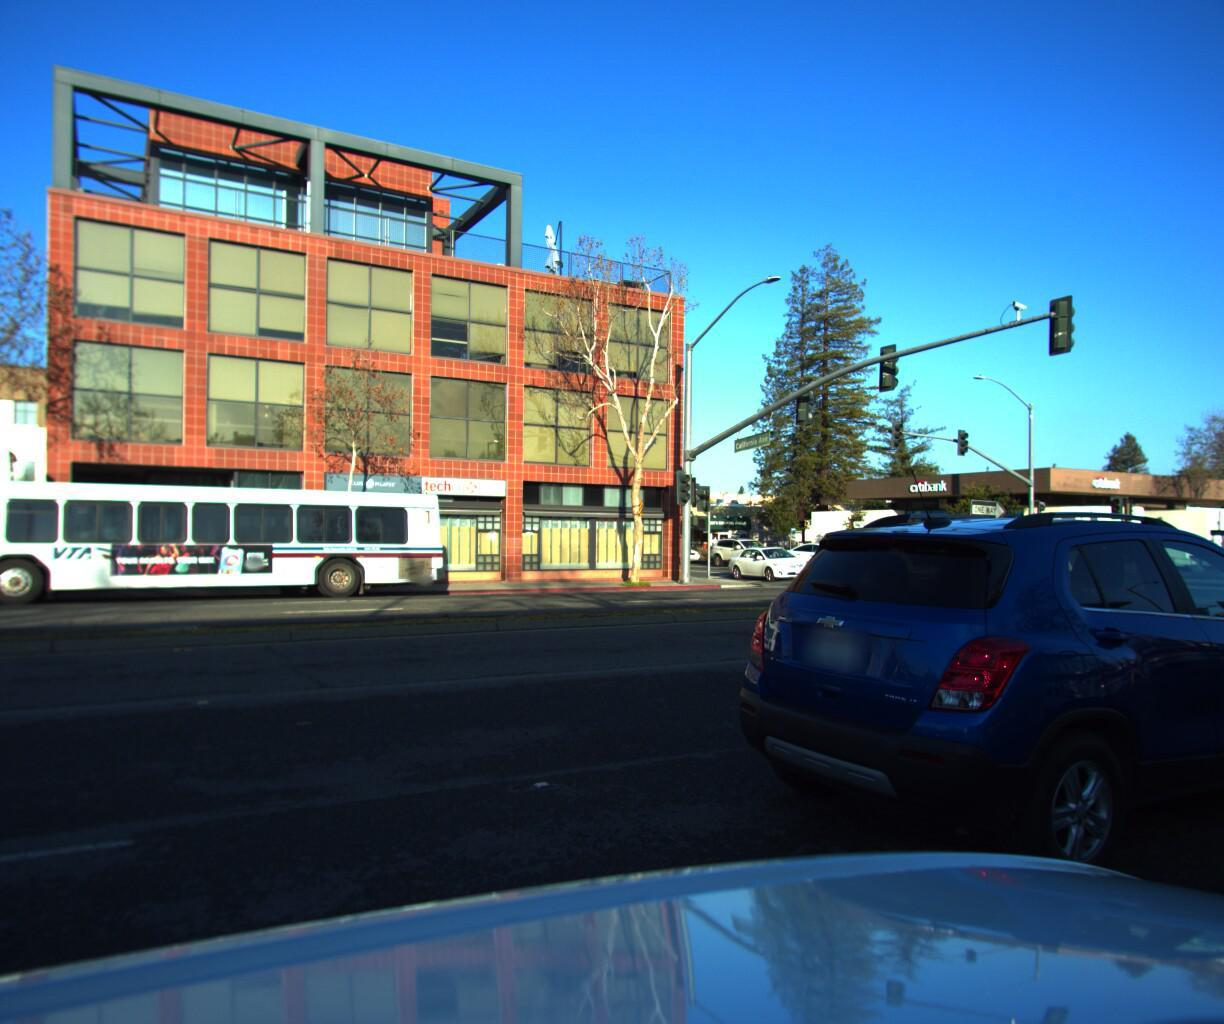bus: (0, 479, 448, 602)
car: (690, 507, 1224, 961), (718, 541, 822, 581), (776, 534, 873, 568), (703, 532, 784, 563), (642, 534, 711, 561), (1212, 540, 1224, 585)
